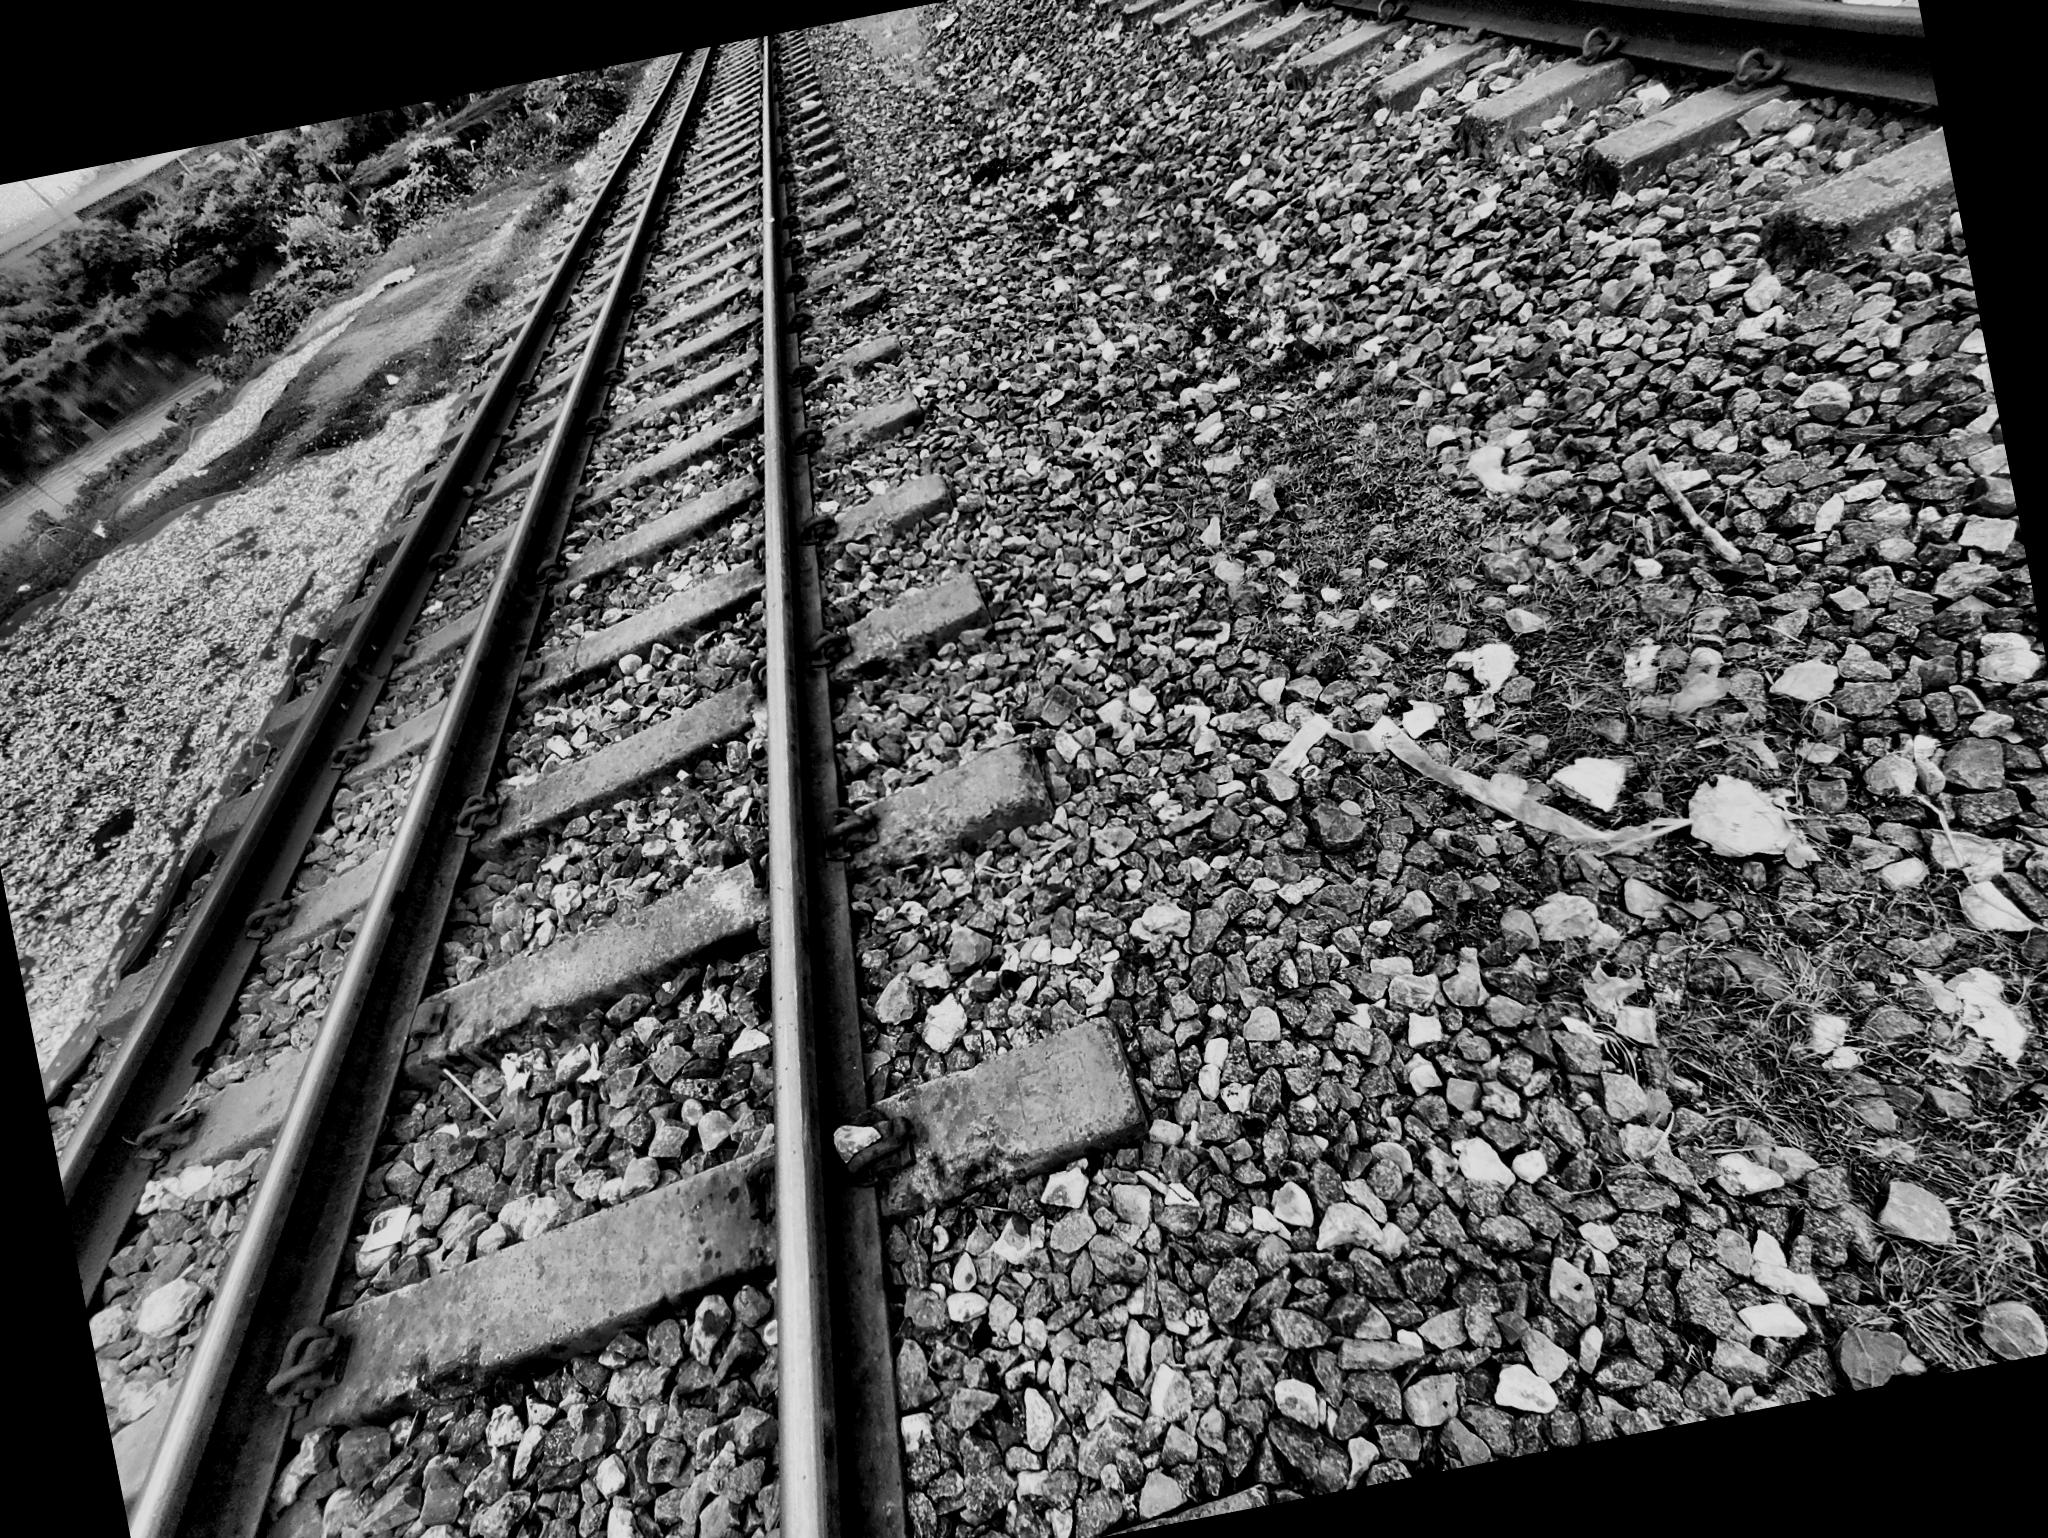Trash: (1236, 637, 1696, 927), (433, 1044, 502, 1142), (462, 323, 530, 368)
